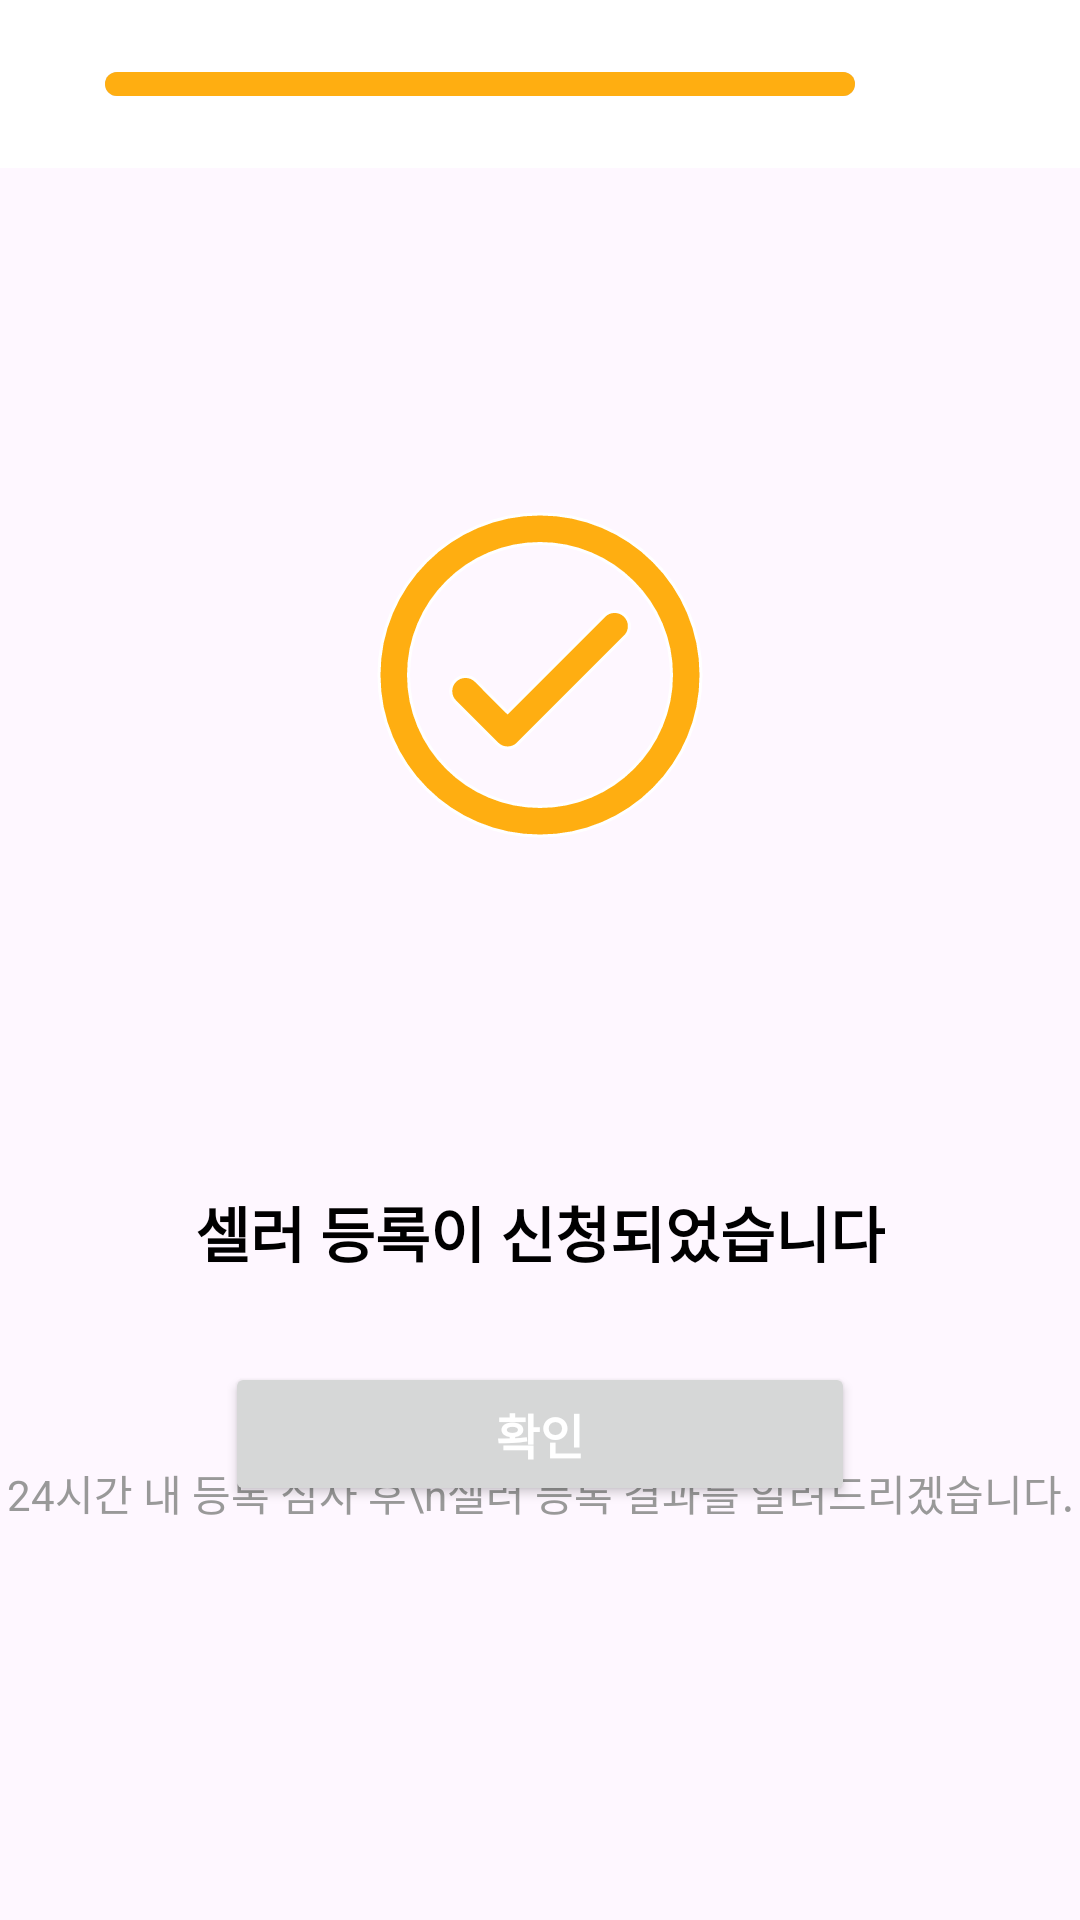

Icon bounding boxes for this 1080px×1920px phone screenshot, format box=[x1, y1, x2, y2]:
check circle: box=[380, 515, 700, 835]
